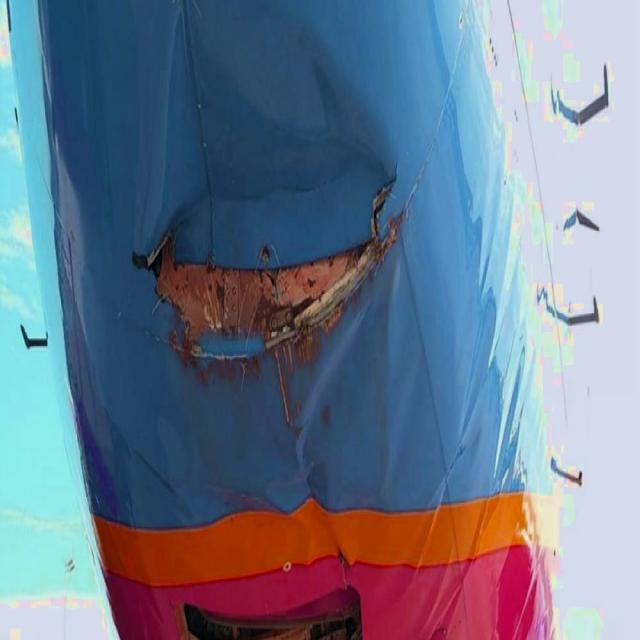crack: (141, 170, 405, 387)
